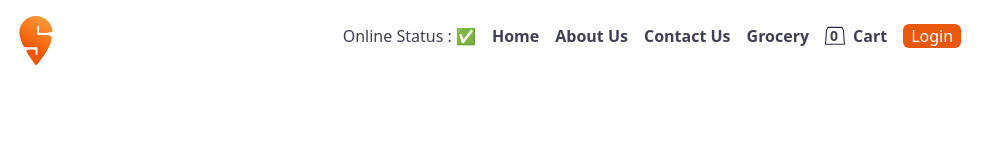
should simulate login button
Click the button "Login".
click(932, 36)  # box [903,24,961,48]
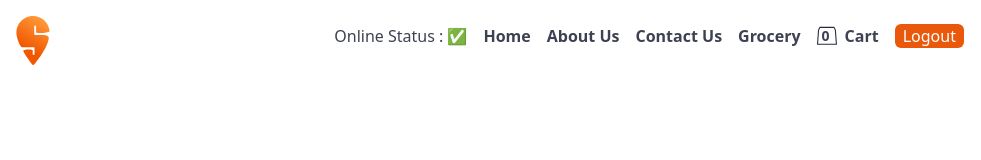
Expected: the button "Logout" is shown, [895,24,964,48]
